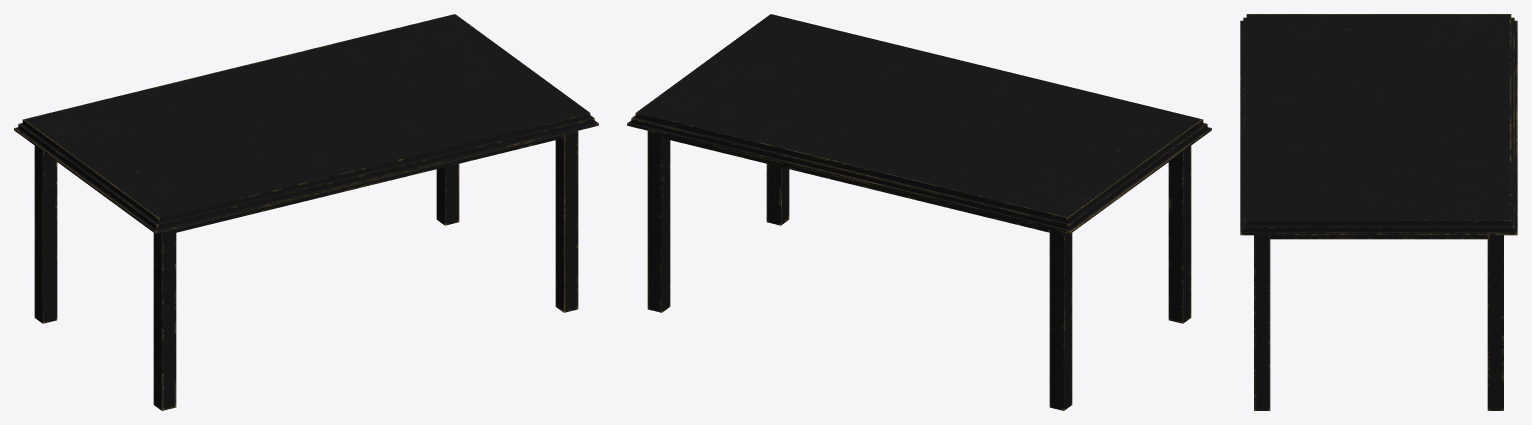
File: dining_table.glb
3 renders of one model, left to right at view 1: azimuth 30°, elevation 25°; view 2: azimuth 150°, elevation 25°; view 3: azimuth 270°, elevation 25°, orthographic.
Parts seen in each view (by area): view 1: dining_table; view 2: dining_table; view 3: dining_table.
Part boxes in pixels (x1,y1,x2,y2): dining_table: (14,14,598,410); dining_table: (627,14,1211,410); dining_table: (1240,14,1517,410).
Size of the model in its own units: 200 by 85.1 by 110.
1 material, 1 textured.
